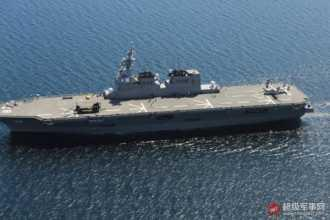warship: (1, 54, 310, 136)
